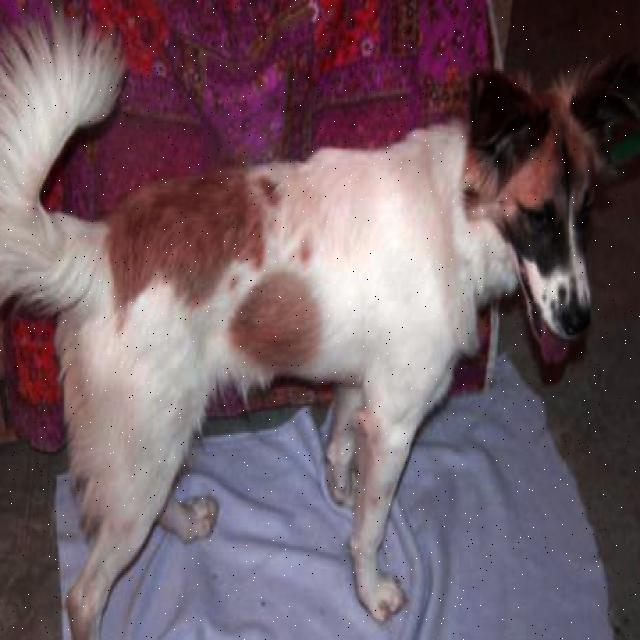Dog: (464, 48, 639, 379)
